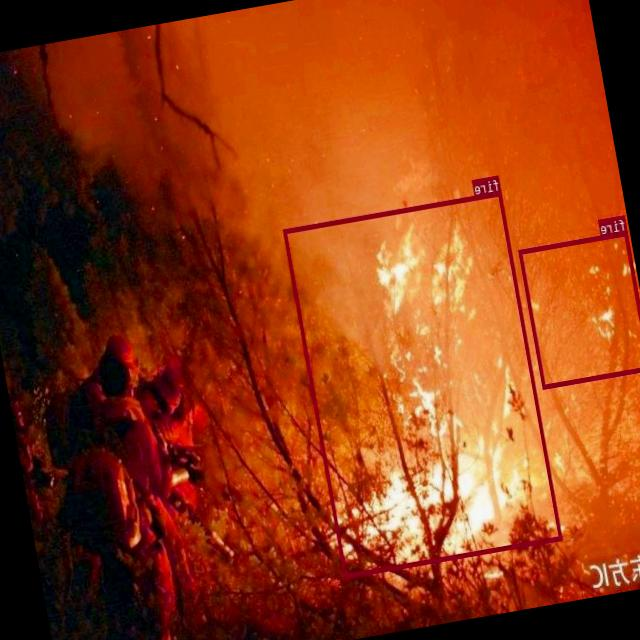fire: (282, 189, 562, 576), (518, 230, 640, 388)
